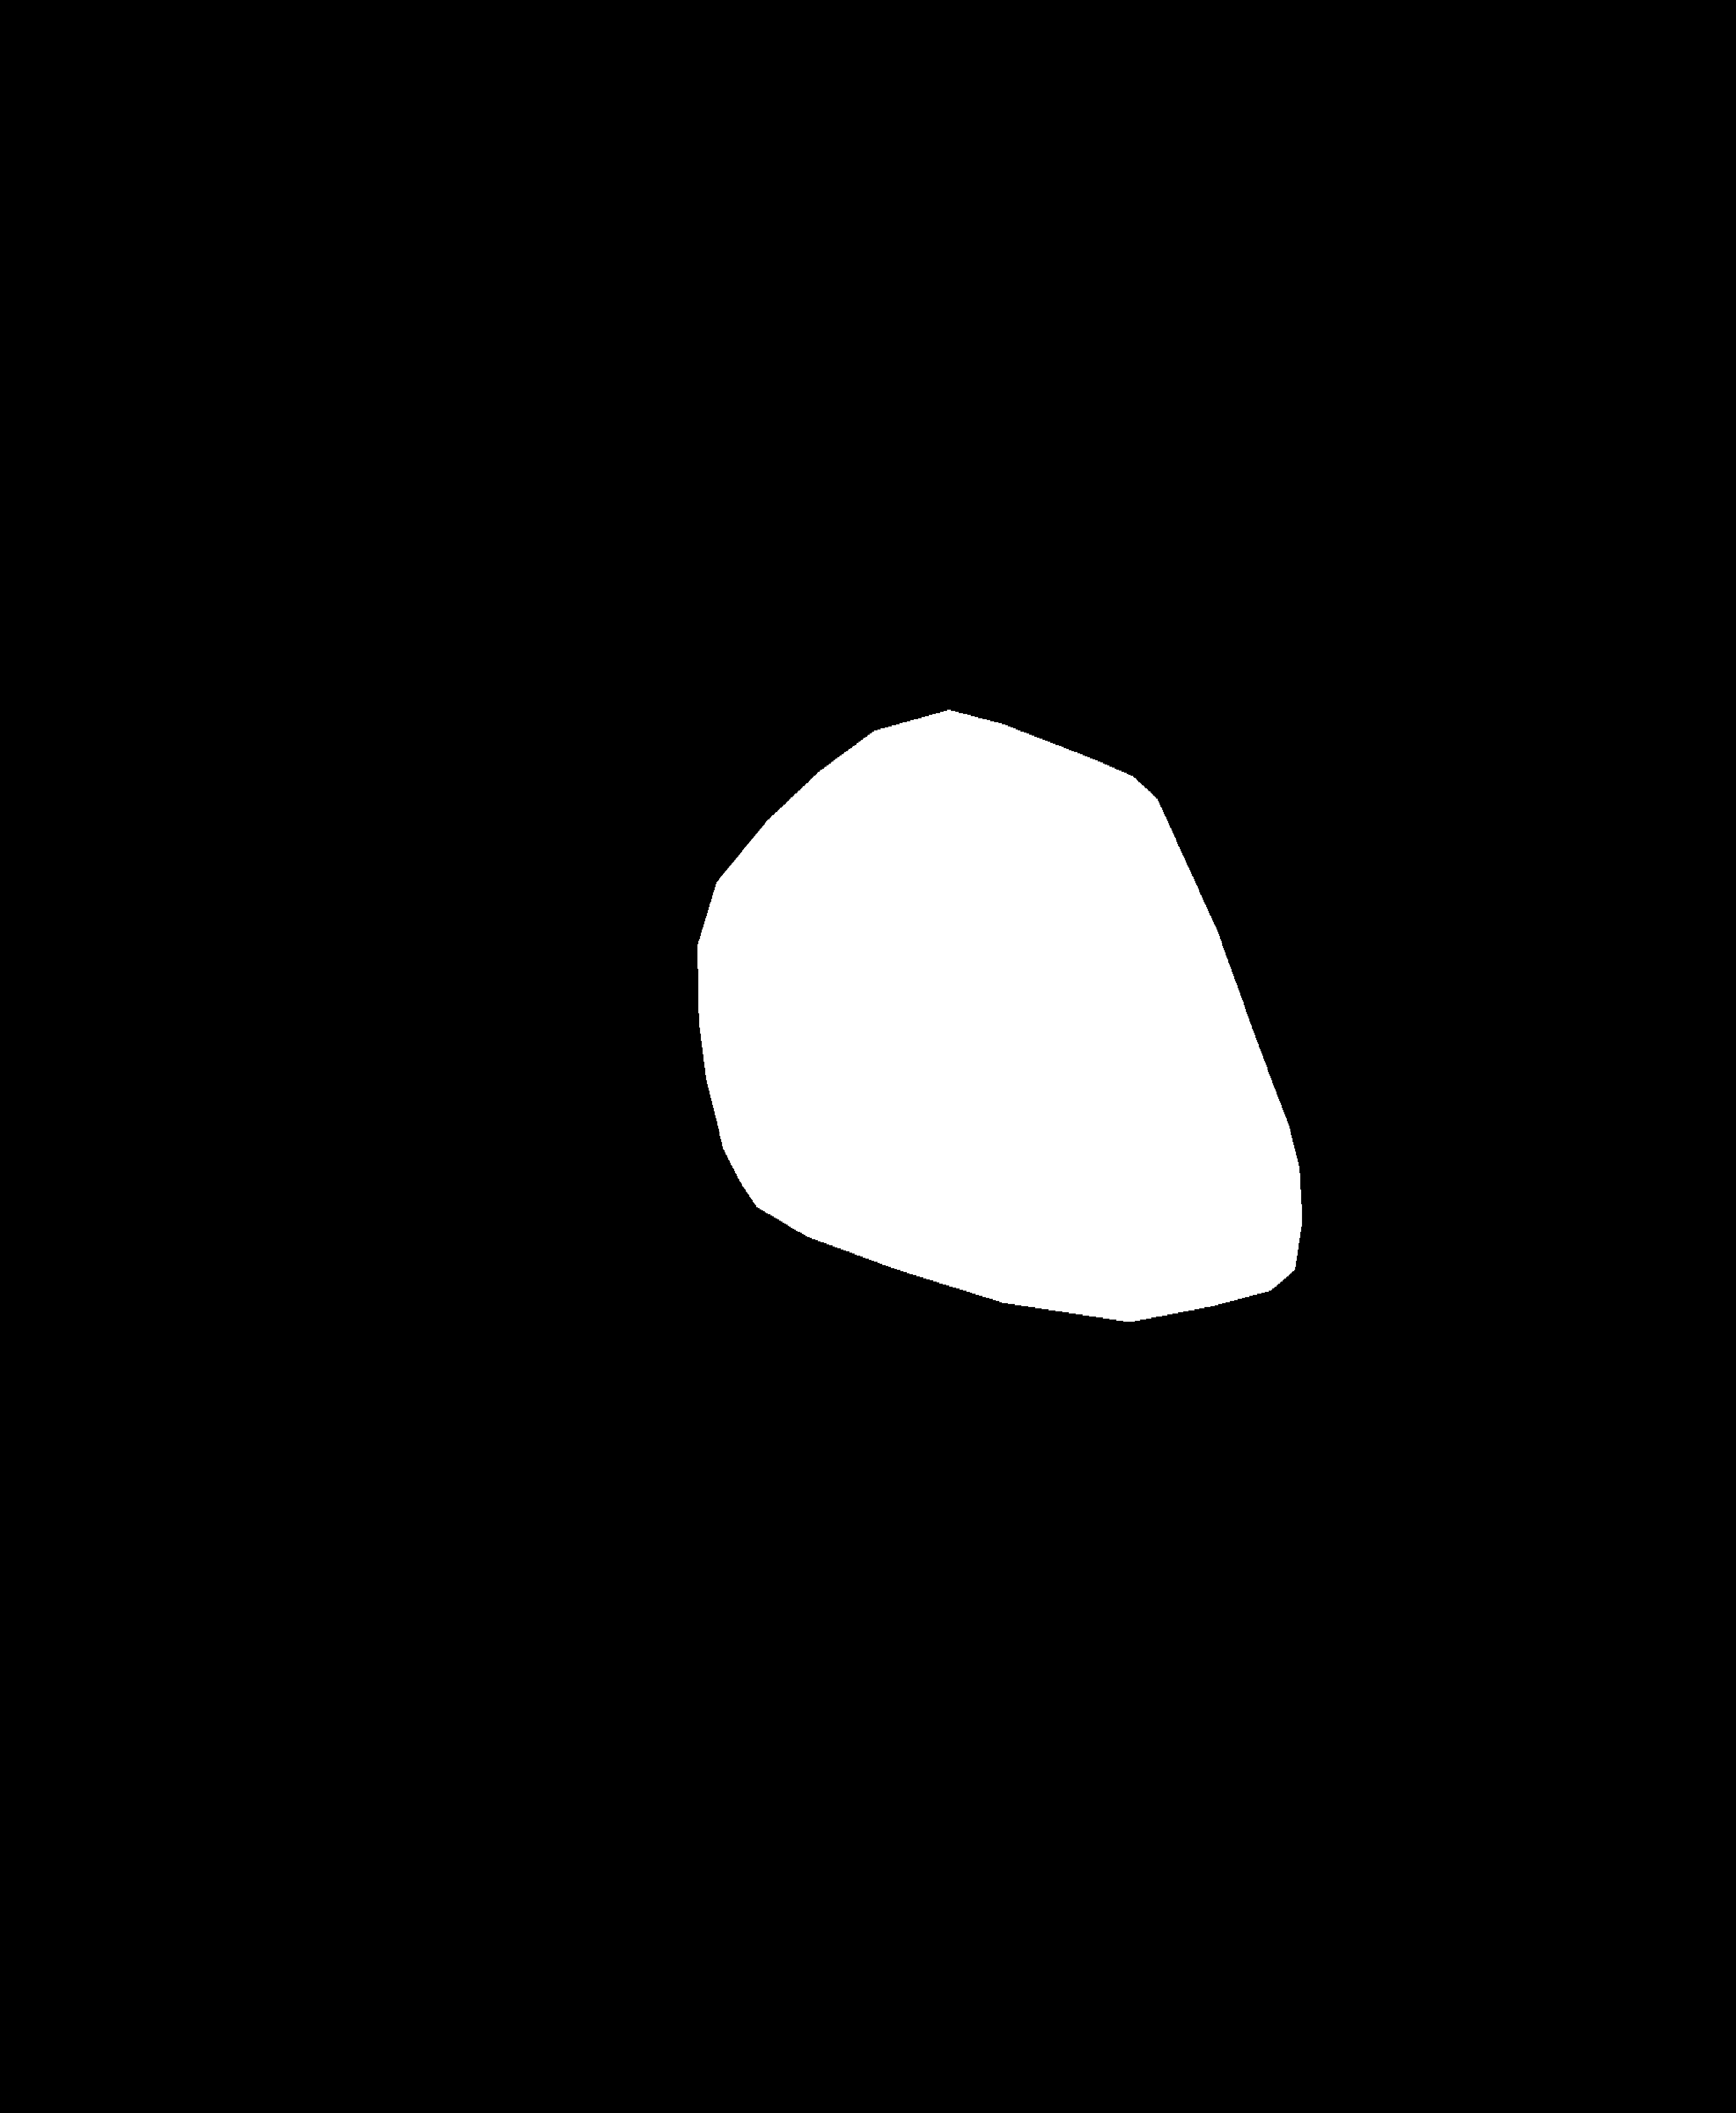heart: (697, 774, 1306, 1346)
left_lung: (237, 151, 850, 1504)
right_lung: (1018, 128, 1550, 1476)
